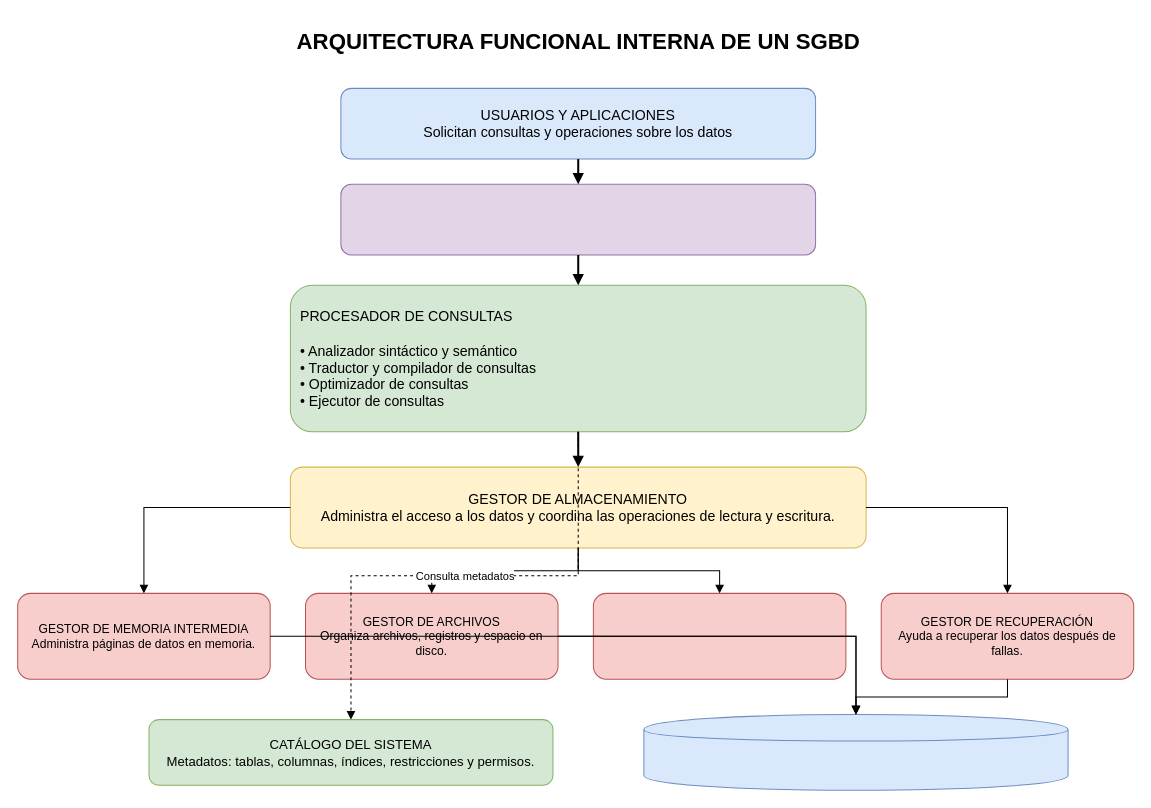
Some shapes in this 1151 by 808 pixel diagram are drawn without their labels. The shapes that lost their labels are listed below. From the top down, each one's centre as x and y in pixels, then its label:
At point 578,219: "CONSULTAS SQL SELECT, INSERT, UPDATE, DELETE, CREATE".
At point 719,635: "GESTOR DE TRANSACCIONES Controla transacciones y concurrencia.".
At point 855,752: "ALMACENAMIENTO FÍSICO Archivos de datos, índices y registros de transacciones".
